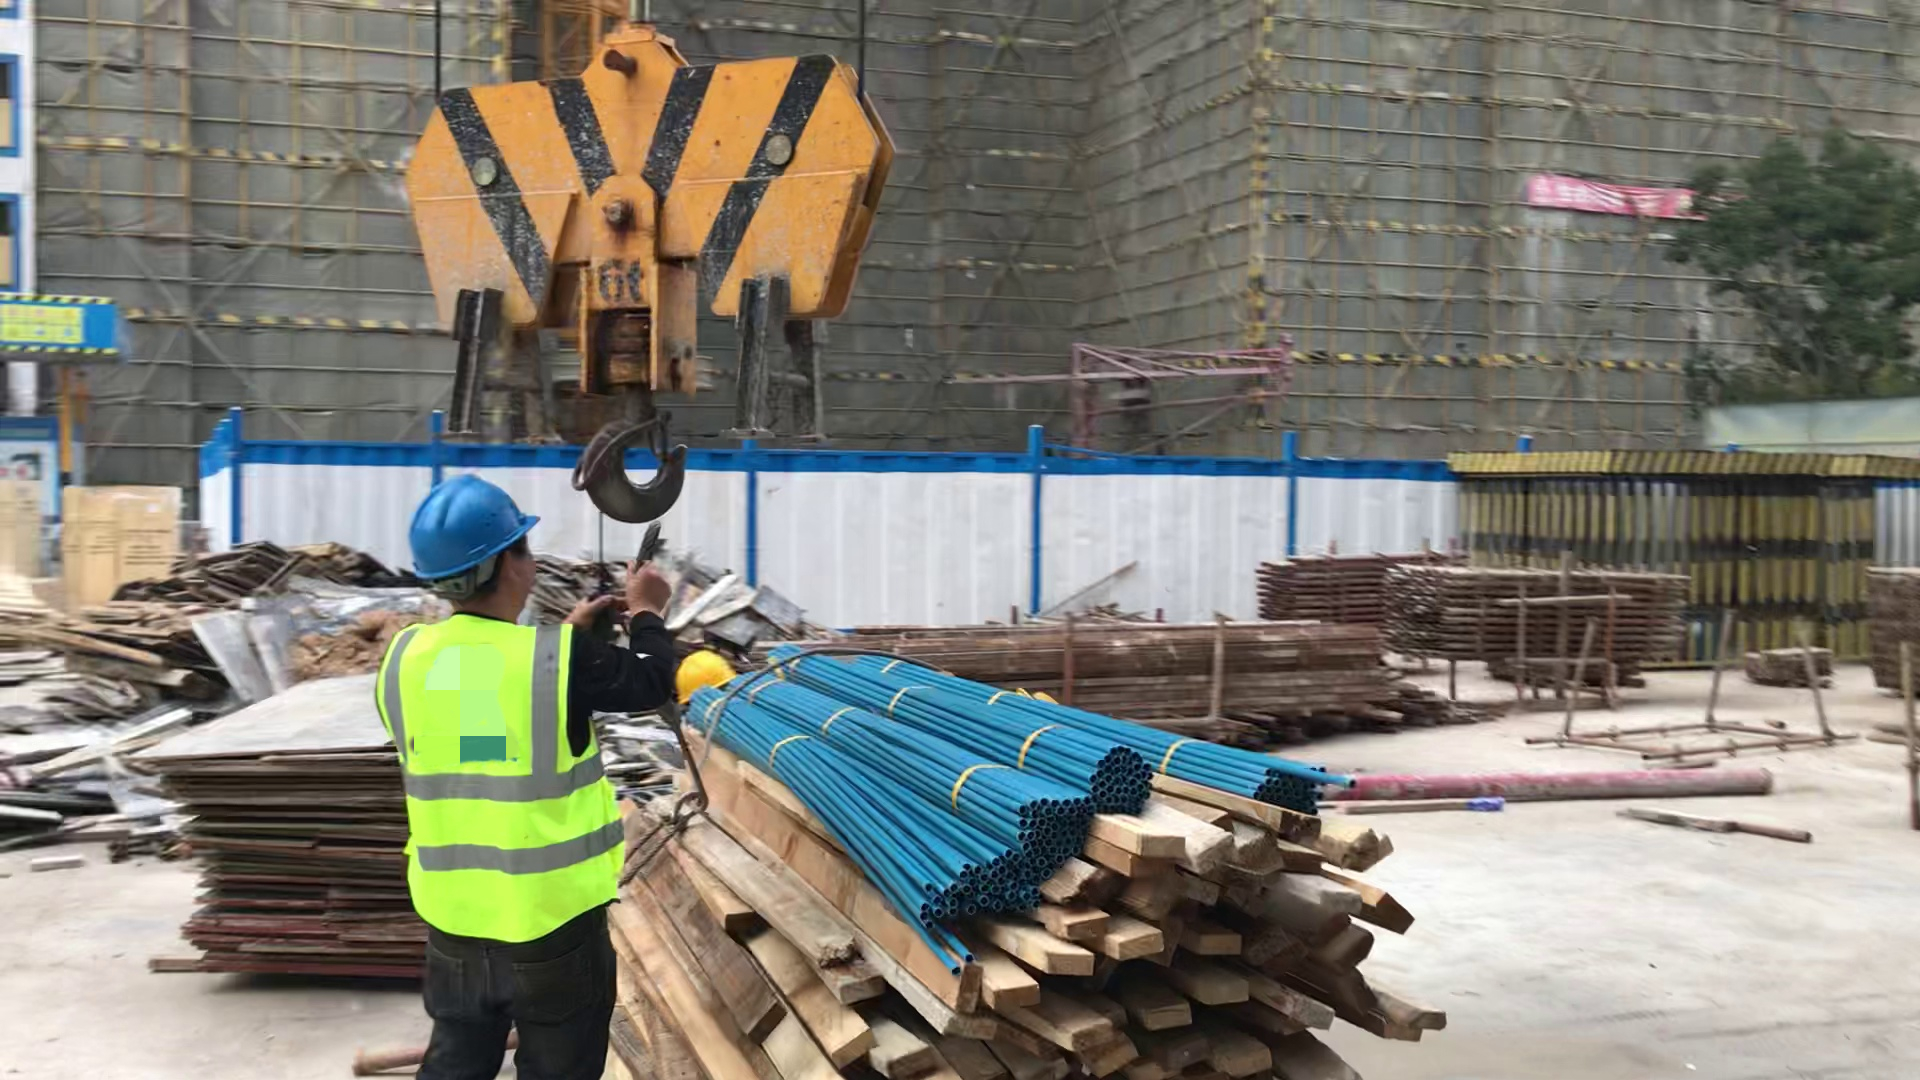board: (1, 526, 676, 861), (119, 669, 608, 1008)
helmet: (382, 468, 562, 589)
hook: (363, 14, 927, 539)
person: (348, 465, 683, 1080)
scaffold: (1384, 538, 1735, 673), (1241, 520, 1465, 632)
slogan: (1518, 168, 1729, 234), (3, 280, 133, 376), (1, 412, 87, 515)
vest: (360, 609, 644, 950)
wood: (573, 627, 1496, 1080)
